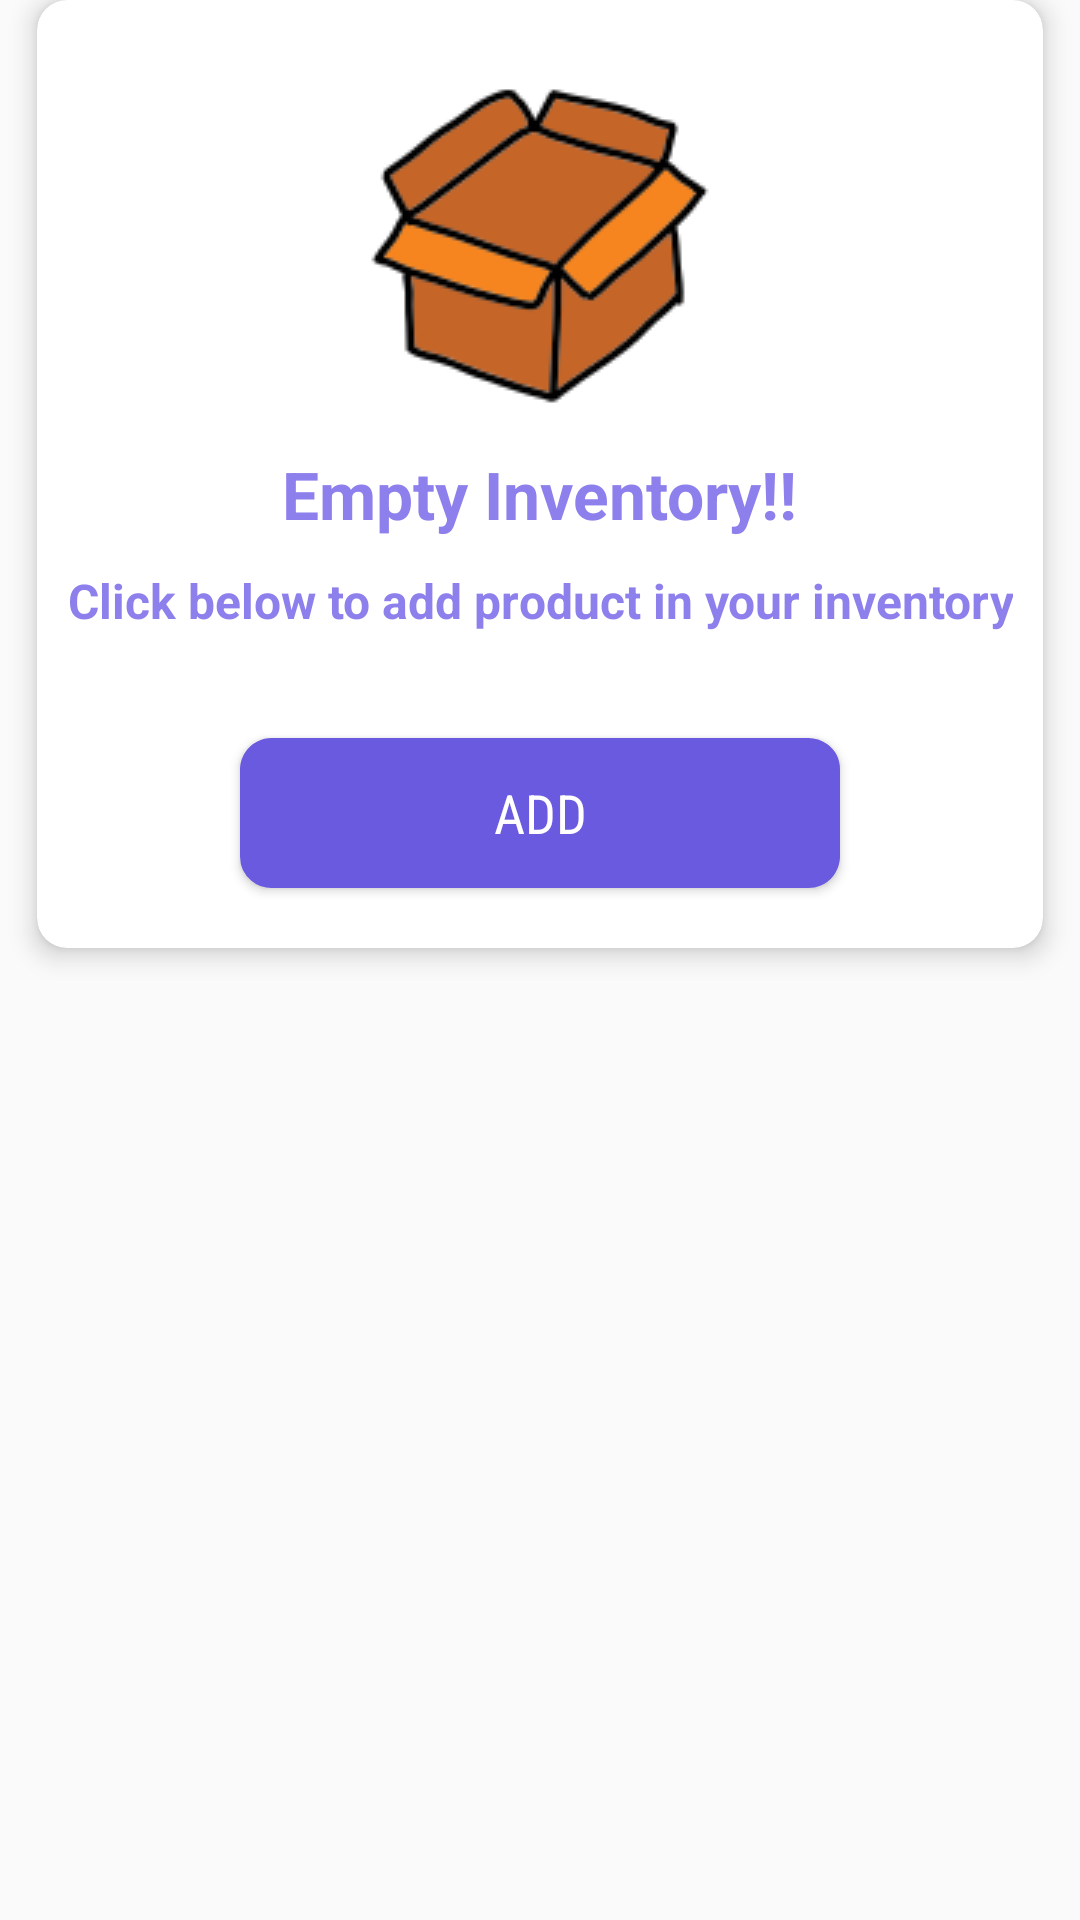

Screen size 1080px×1920px. Icon name, then its box in pixels as (x1, y1, x2, y2):
empty box: (371, 89, 709, 403)
